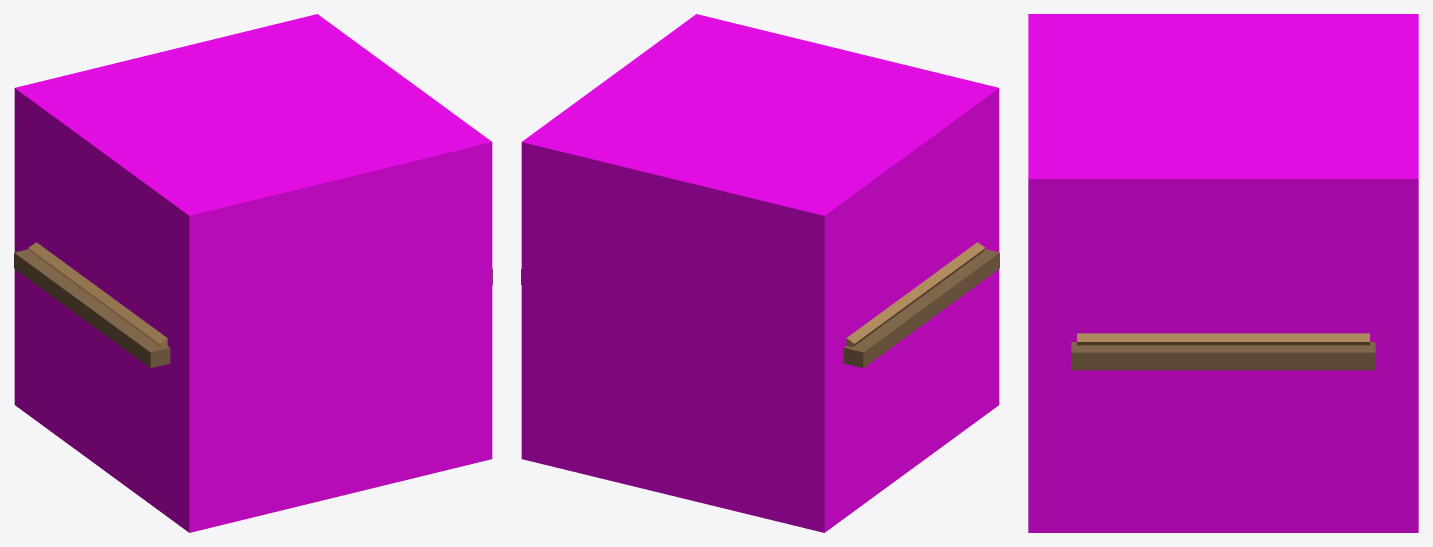
File: roof.glb
The picture shows the model from 3 angles, left to right: view 1: azimuth 30°, elevation 25°; view 2: azimuth 150°, elevation 25°; view 3: azimuth 270°, elevation 25°; orthographic projection. The views are drawn at different scales.
Parts seen in each view (by area): view 1: Col_main, M_b1, M_b0; view 2: Col_main, M_b1, M_b0; view 3: Col_main, M_b1, M_b0.
Part boxes in pixels (x1,y1,x2,y2): Col_main: (14, 14, 492, 532); M_b1: (14, 249, 492, 368); M_b0: (28, 242, 167, 347); Col_main: (521, 14, 999, 532); M_b1: (521, 249, 999, 368); M_b0: (846, 242, 985, 347); Col_main: (1028, 14, 1418, 532); M_b1: (1071, 342, 1375, 370); M_b0: (1077, 333, 1369, 345).
Size of the model in its own units: 2.26 by 2 by 2.
